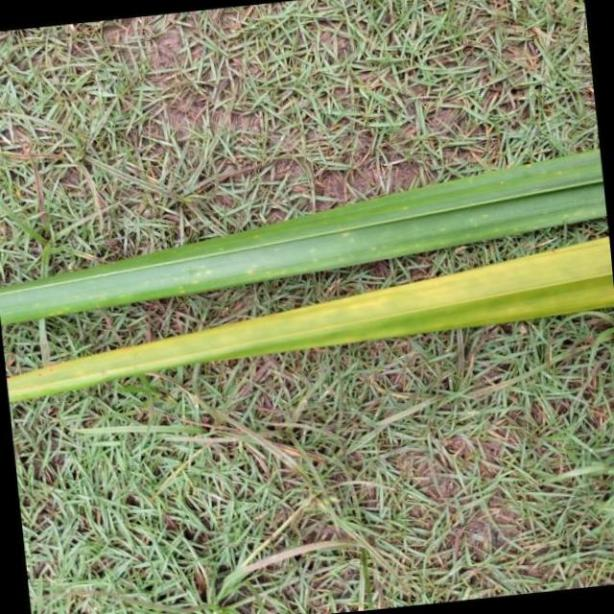nitrogen: (0, 148, 614, 328), (0, 238, 614, 403)
